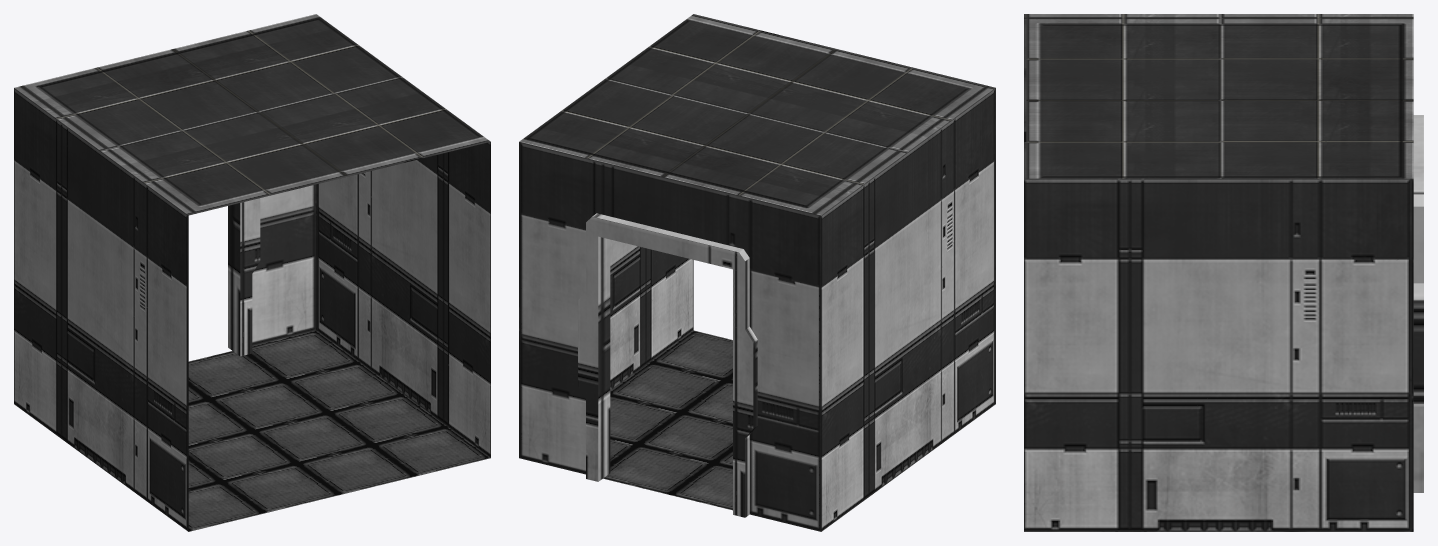
Rendered from CorridorCap3.fbx.
3 renders of one model, left to right at view 1: azimuth 30°, elevation 25°; view 2: azimuth 150°, elevation 25°; view 3: azimuth 270°, elevation 25°, orthographic. The views are drawn at different scales.
Parts seen in each view (by area): view 1: CorridorCap3; view 2: CorridorCap3; view 3: CorridorCap3.
Part boxes in pixels (x1,y1,x2,y2): CorridorCap3: [14, 14, 490, 531]; CorridorCap3: [519, 14, 995, 531]; CorridorCap3: [1024, 14, 1423, 531].
Size of the model in its own units: 5 by 5 by 5.13.
